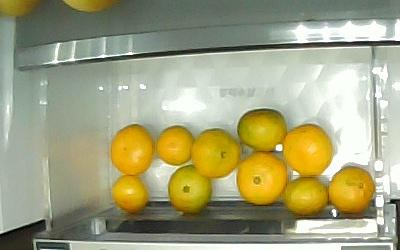tangerine: (280, 122, 333, 177), (235, 150, 288, 205), (189, 126, 240, 178), (107, 123, 155, 175), (326, 164, 376, 213), (236, 107, 288, 151), (166, 163, 212, 212), (280, 177, 329, 215), (155, 123, 195, 166), (110, 174, 149, 213)
